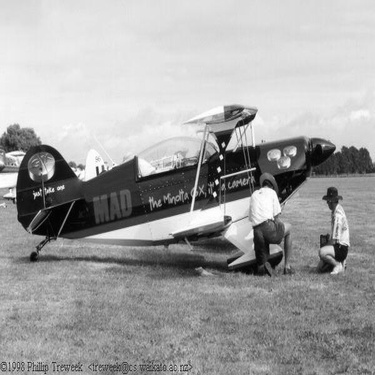airplane: (14, 103, 338, 265)
